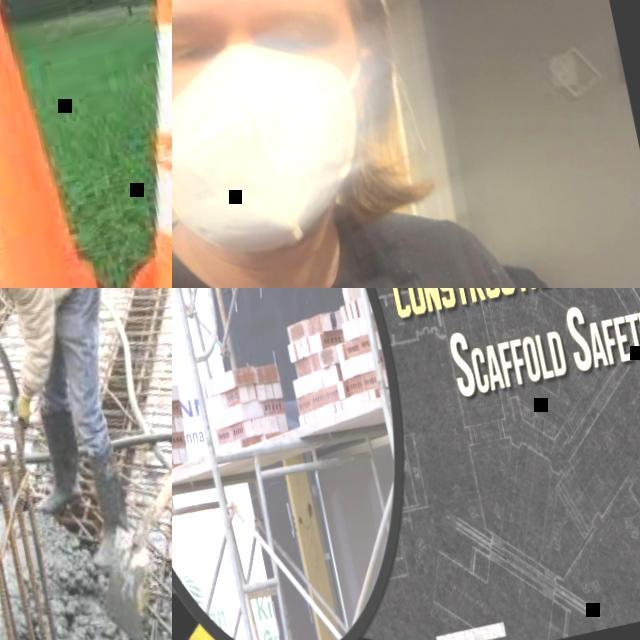Weapon: (165, 8, 530, 302)
